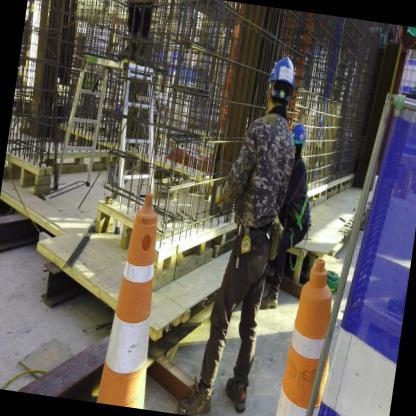Helmet: (264, 46, 306, 94)
safety-shoe: (219, 368, 255, 415), (175, 380, 217, 415)
